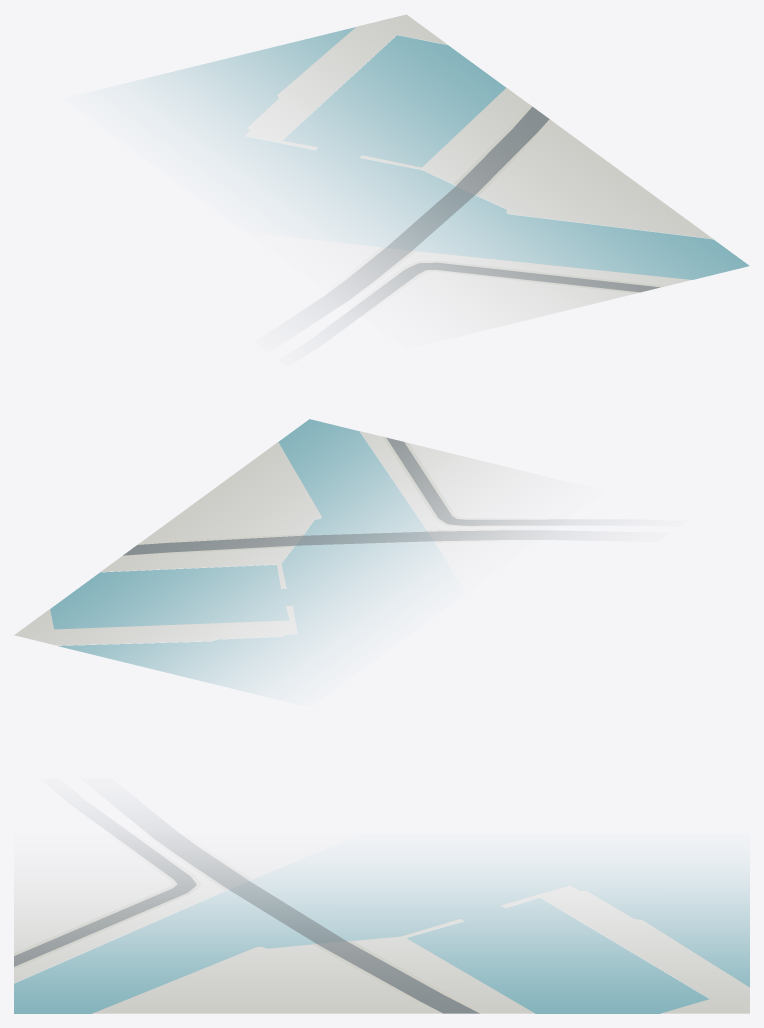
3 views of the same model, one above another, from view 1: azimuth 30°, elevation 25°; view 2: azimuth 150°, elevation 25°; view 3: azimuth 270°, elevation 25° (orthographic). The views are drawn at different scales.
Visible parts, largest first — view 1: city; view 2: city; view 3: city.
Boxes of the visible parts, x1,y1,x2,y2 form: city: [134, 14, 749, 331]; city: [14, 419, 587, 692]; city: [14, 823, 749, 1013].
Size of the model in its own units: 430 by 0.4 by 500.
